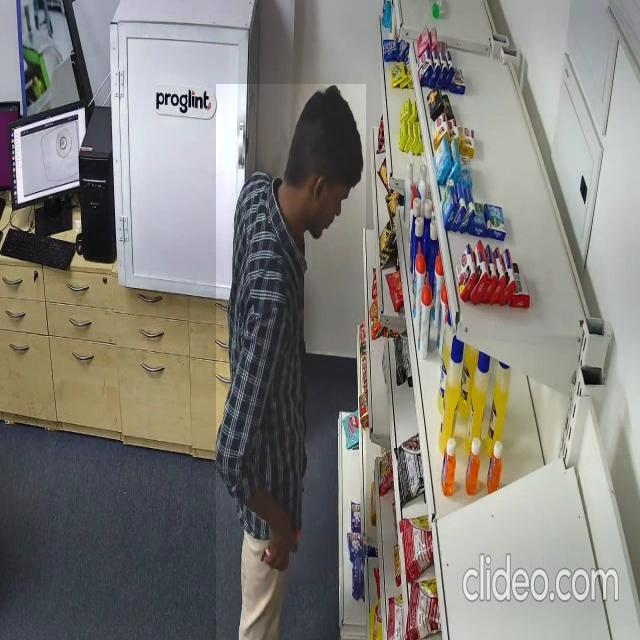Shoplifting: (216, 84, 366, 640)
